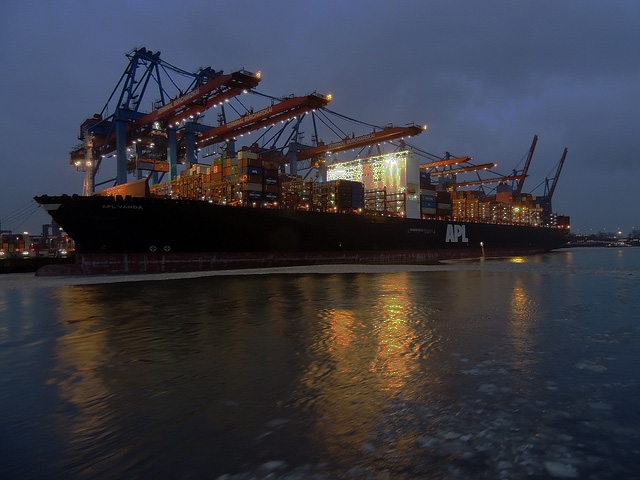container_ship: (33, 147, 571, 276)
